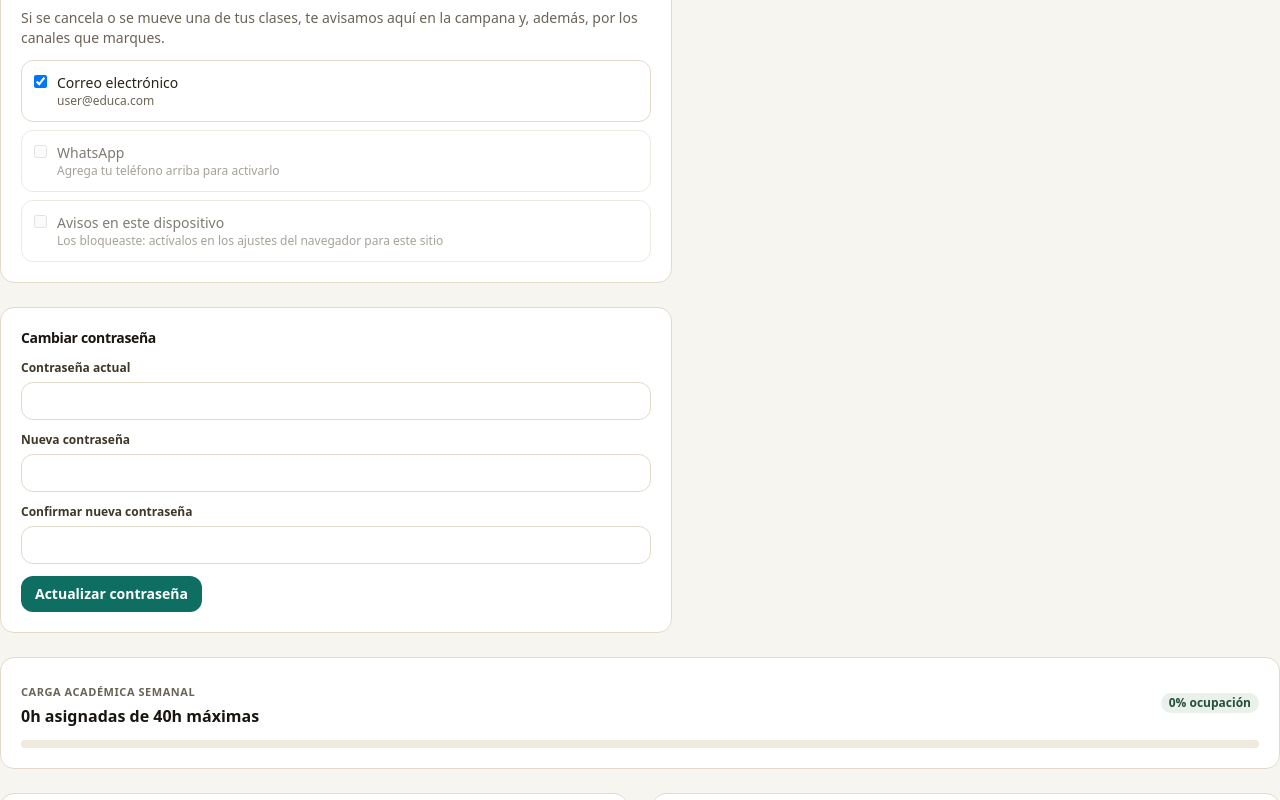
Test case: ProfilePanel › requires the confirmation to match the new password
(page scrolled)
Type "old-secret" into the password field labelled "Contraseña actual".
click(336, 400); type("old-secret")  # box x1=21 y1=382 x2=651 y2=420
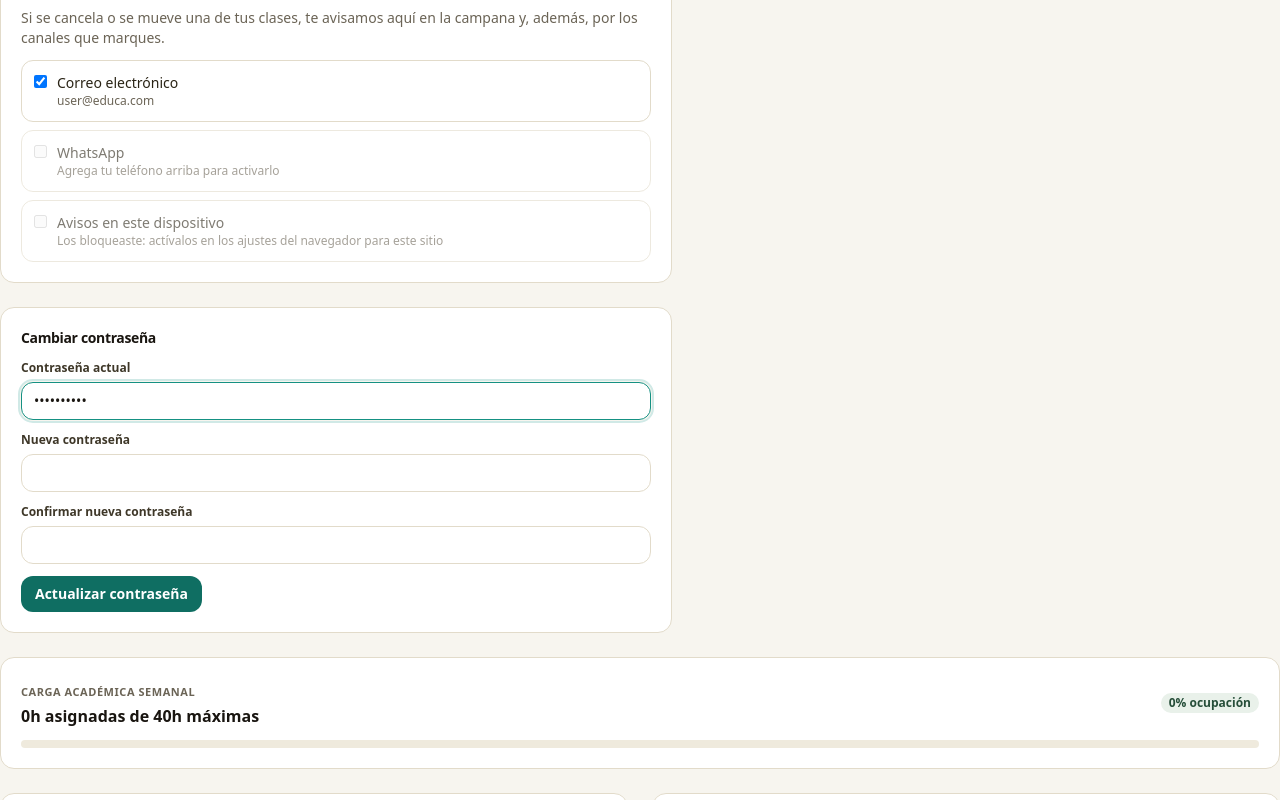
Type "new-secret-1" into the password field labelled "Nueva contraseña".
click(336, 472); type("new-secret-1")  # box x1=21 y1=454 x2=651 y2=492
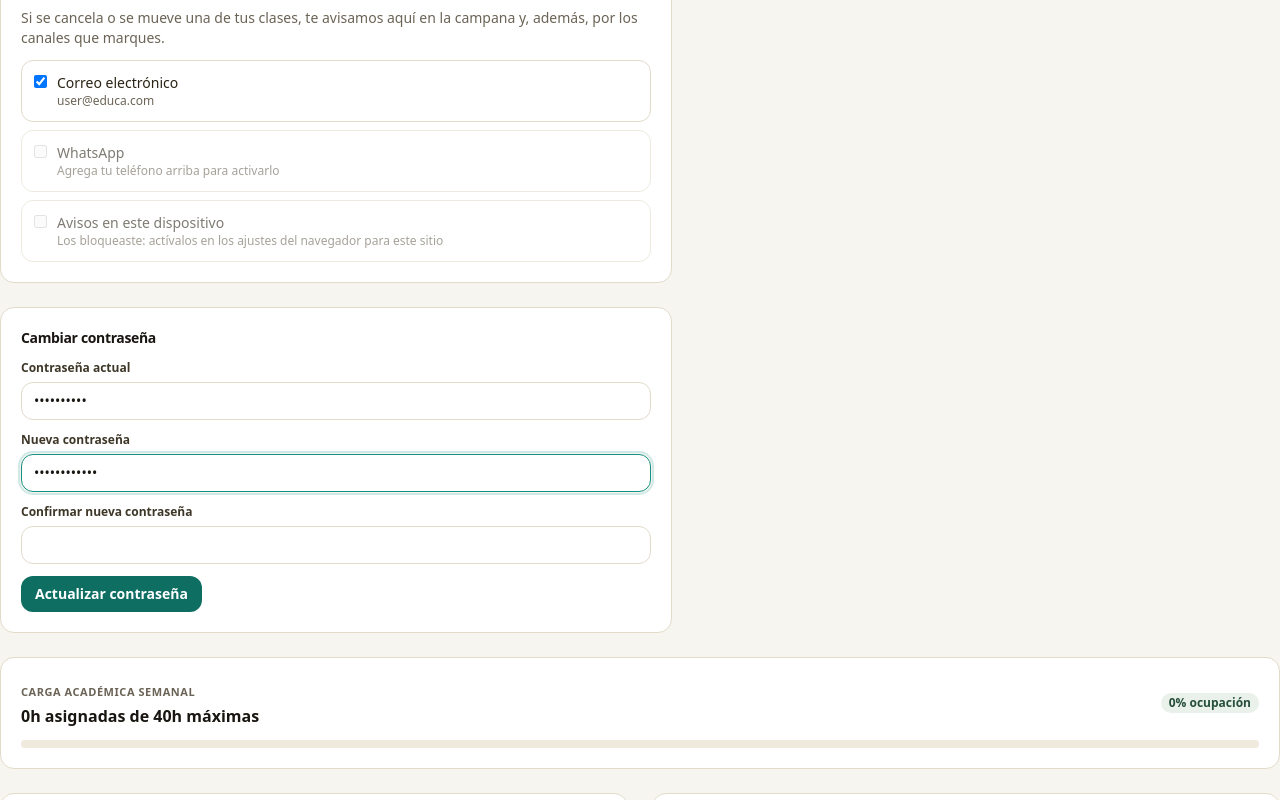
Type "something-else" into the password field labelled "Confirmar nueva contraseña".
click(336, 544); type("something-else")  # box x1=21 y1=526 x2=651 y2=564
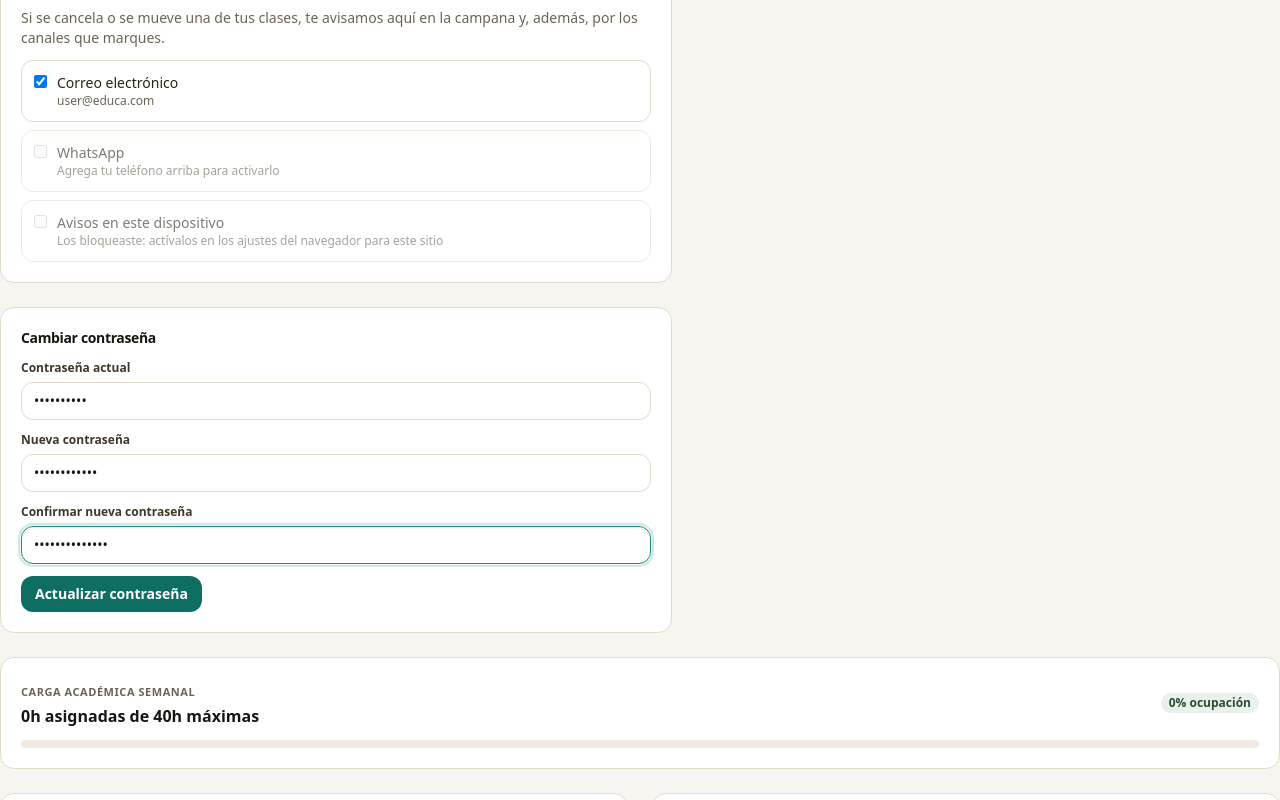
Click the button "Actualizar contraseña".
click(112, 594)  # box x1=21 y1=576 x2=202 y2=612
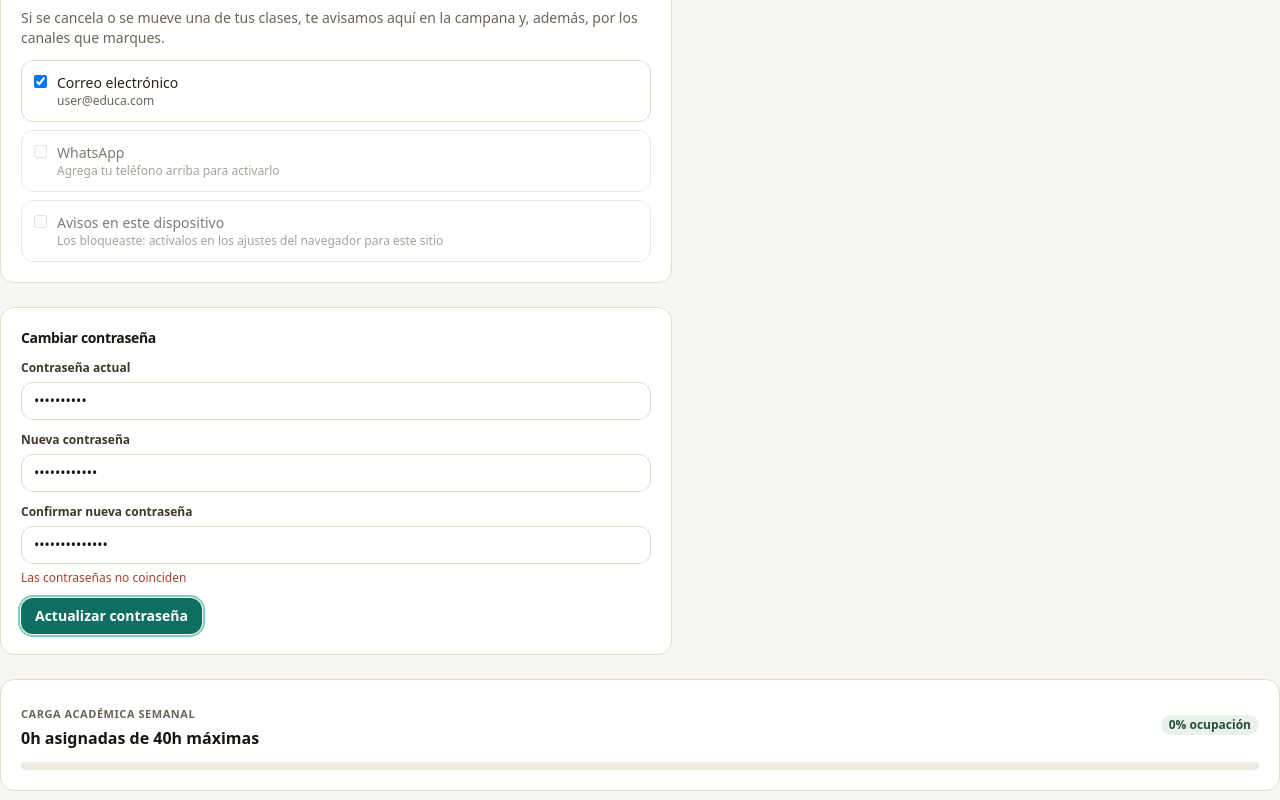
Check: the text "Las contraseñas no coinciden" is shown, box x1=21 y1=568 x2=186 y2=586
